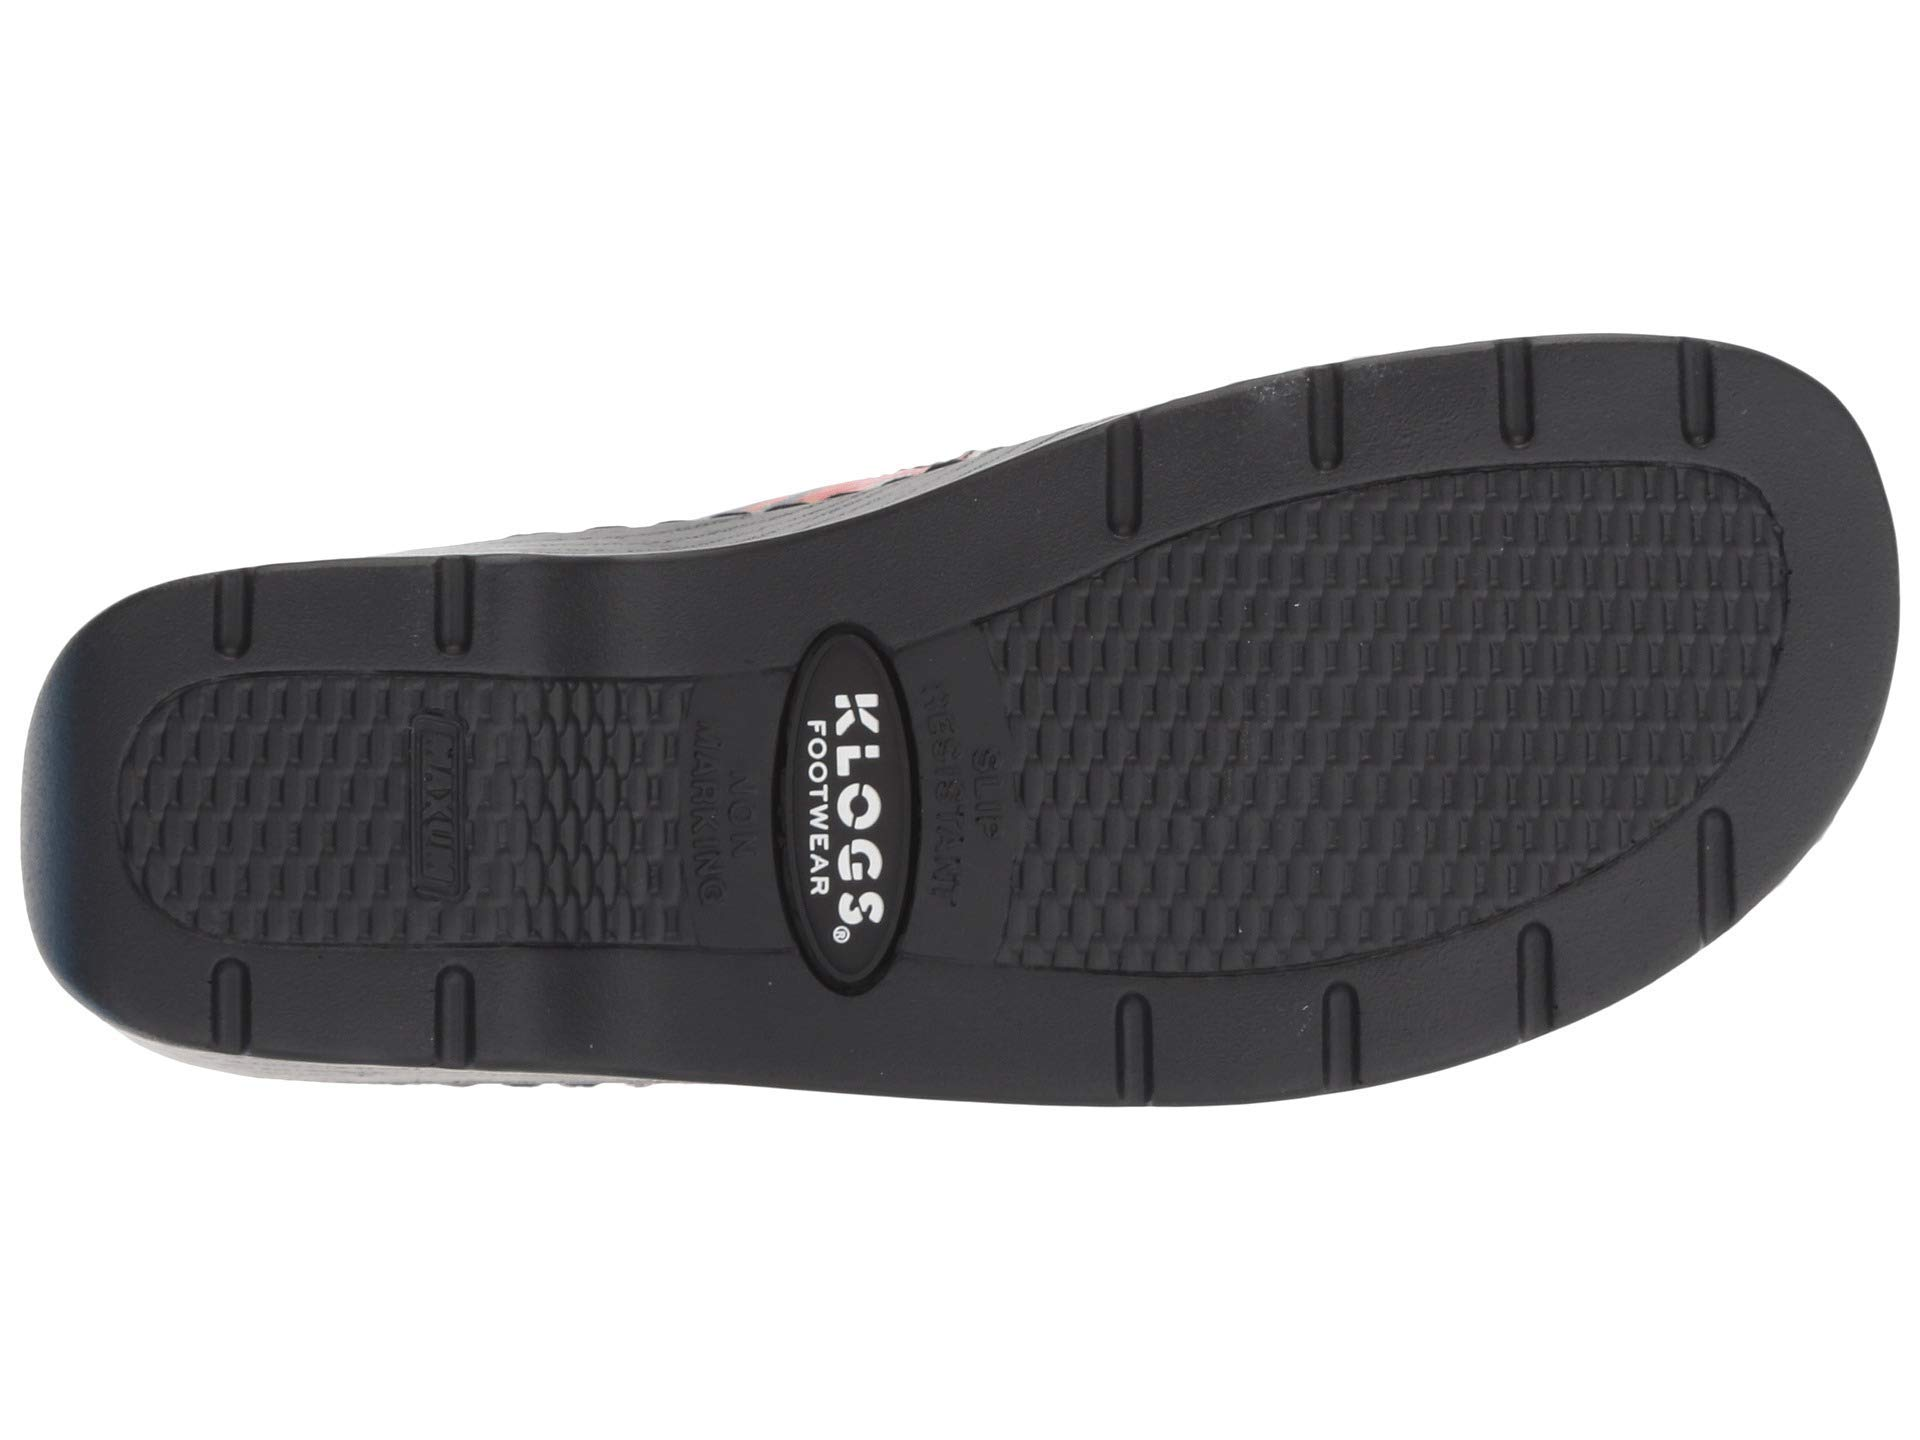circle: (748, 601, 934, 1010)
exclude: (1134, 543, 1674, 835)
line: (1134, 543, 1674, 835), (1285, 354, 1565, 470)
quad: (1285, 354, 1565, 470), (389, 687, 479, 915)
text: (748, 601, 934, 1010), (389, 687, 479, 915)
